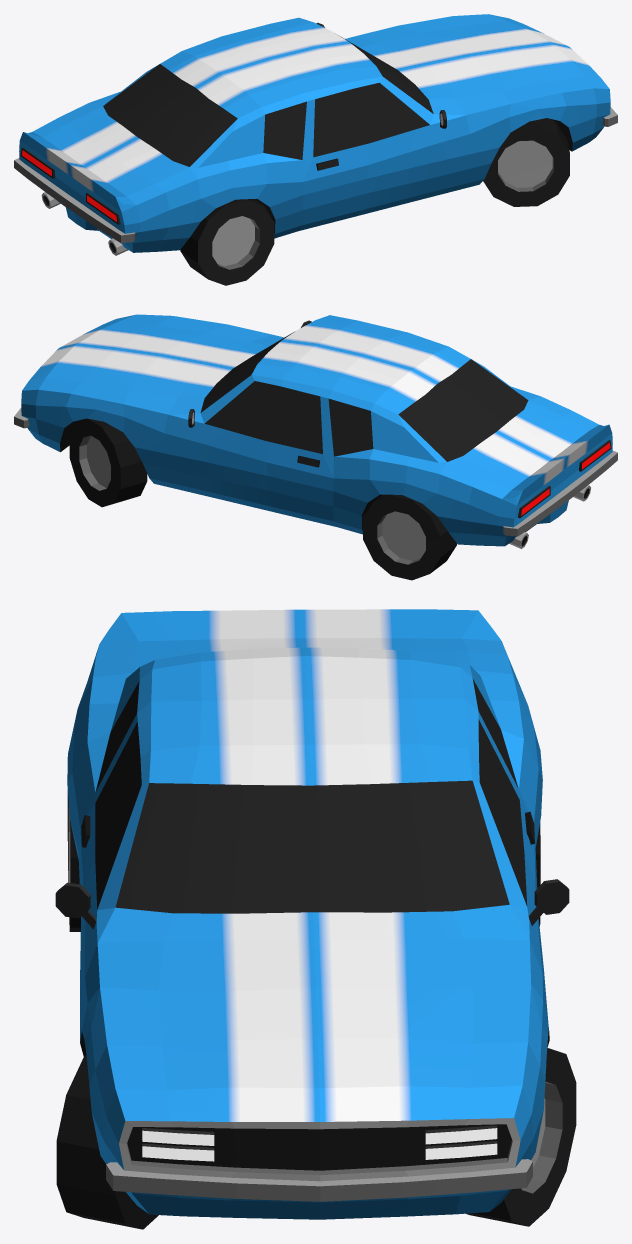
File: Car_071.glb
The picture shows the model from 3 angles, top to bottom: view 1: azimuth 30°, elevation 25°; view 2: azimuth 150°, elevation 25°; view 3: azimuth 270°, elevation 25°; orthographic projection. The views are drawn at different scales.
Parts seen in each view (by area): view 1: Car_071, wheel_2_Car_071_Wheel_2R, wheel_1_Car_071_Wheel_1R; view 2: Car_071, wheel_3_Car_071_Wheel_3L, wheel_0_Car_071_Wheel_1L; view 3: Car_071, wheel_1_Car_071_Wheel_1R, wheel_0_Car_071_Wheel_1L.
Boxes of the visible parts, bbox=[...] form: Car_071: bbox=[14, 14, 617, 255]; wheel_2_Car_071_Wheel_2R: bbox=[180, 199, 274, 285]; wheel_1_Car_071_Wheel_1R: bbox=[483, 118, 569, 206]; Car_071: bbox=[14, 314, 617, 548]; wheel_3_Car_071_Wheel_3L: bbox=[363, 494, 456, 580]; wheel_0_Car_071_Wheel_1L: bbox=[69, 419, 147, 507]; Car_071: bbox=[55, 609, 569, 1219]; wheel_1_Car_071_Wheel_1R: bbox=[56, 1055, 158, 1229]; wheel_0_Car_071_Wheel_1L: bbox=[466, 1048, 576, 1226].
Bounding box in the file's own units: 5.11 × 1.49 × 2.24.
3 materials, 3 textured.
